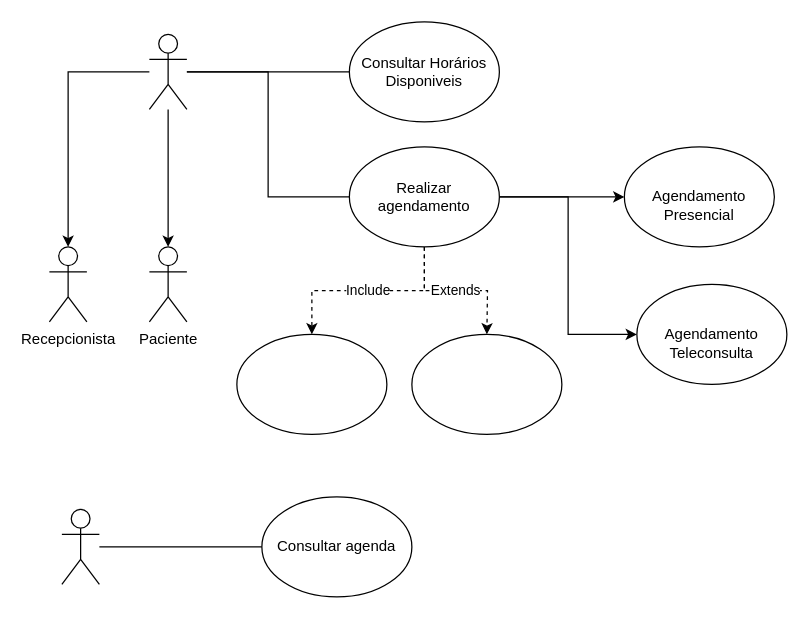
Image size: 809x633. Some labels were removed from this diagram. Here are the shapes that lost their labels. From the top down, the centre of each, then its label:
At point (167, 71): "Agendador".
At point (311, 383): "Verificação de Disponibilidade".
At point (486, 383): "Solicitar Lembrete".
At point (80, 546): "Médico".
